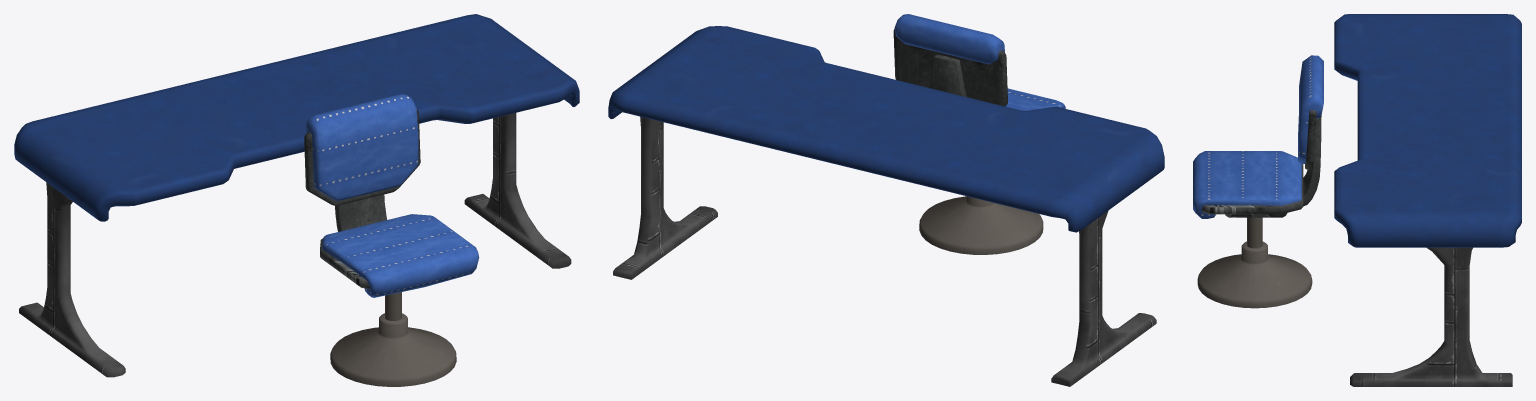
3 renders of one model, left to right at view 1: azimuth 30°, elevation 25°; view 2: azimuth 150°, elevation 25°; view 3: azimuth 270°, elevation 25°, orthographic. The views are drawn at different scales.
Parts seen in each view (by area): view 1: Desk, Chair; view 2: Desk, Chair; view 3: Desk, Chair.
Part boxes in pixels (<box>): Desk: <box>14,14,579,377</box>; Chair: <box>304,94,479,386</box>; Desk: <box>608,26,1164,386</box>; Chair: <box>893,14,1065,254</box>; Desk: <box>1334,14,1521,386</box>; Chair: <box>1193,55,1323,308</box>.
Bounding box in the file's own units: 236 × 108 × 154.
Materials: 2 (2 with a texture image).
